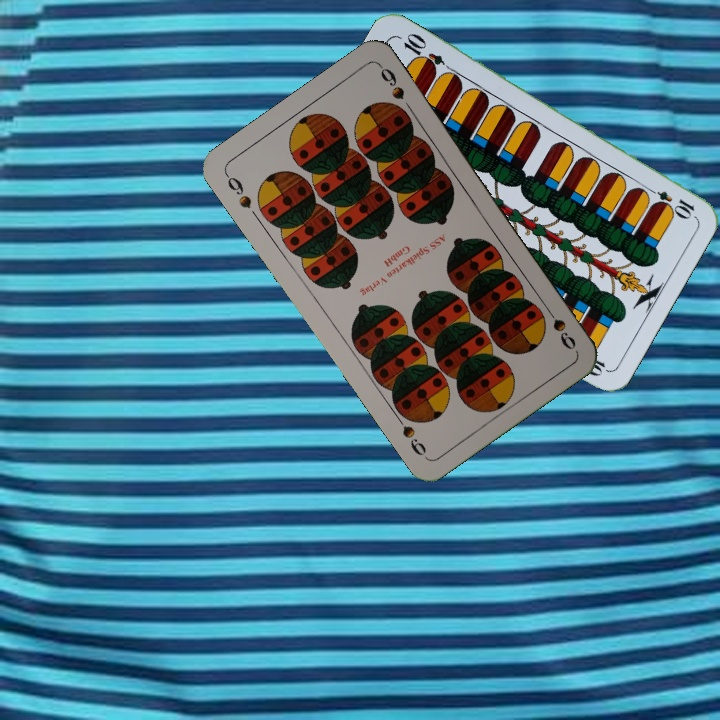E10: (641, 182, 697, 220)
S9: (539, 300, 579, 353), (221, 170, 255, 211)
